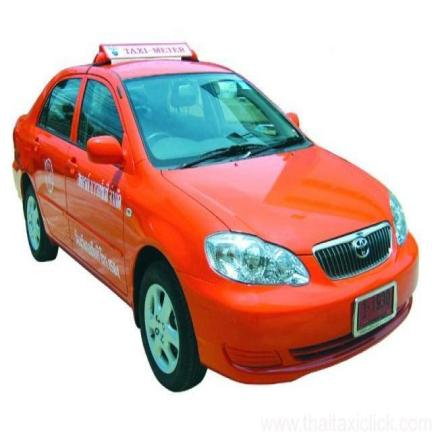taxi: (13, 44, 417, 390)
